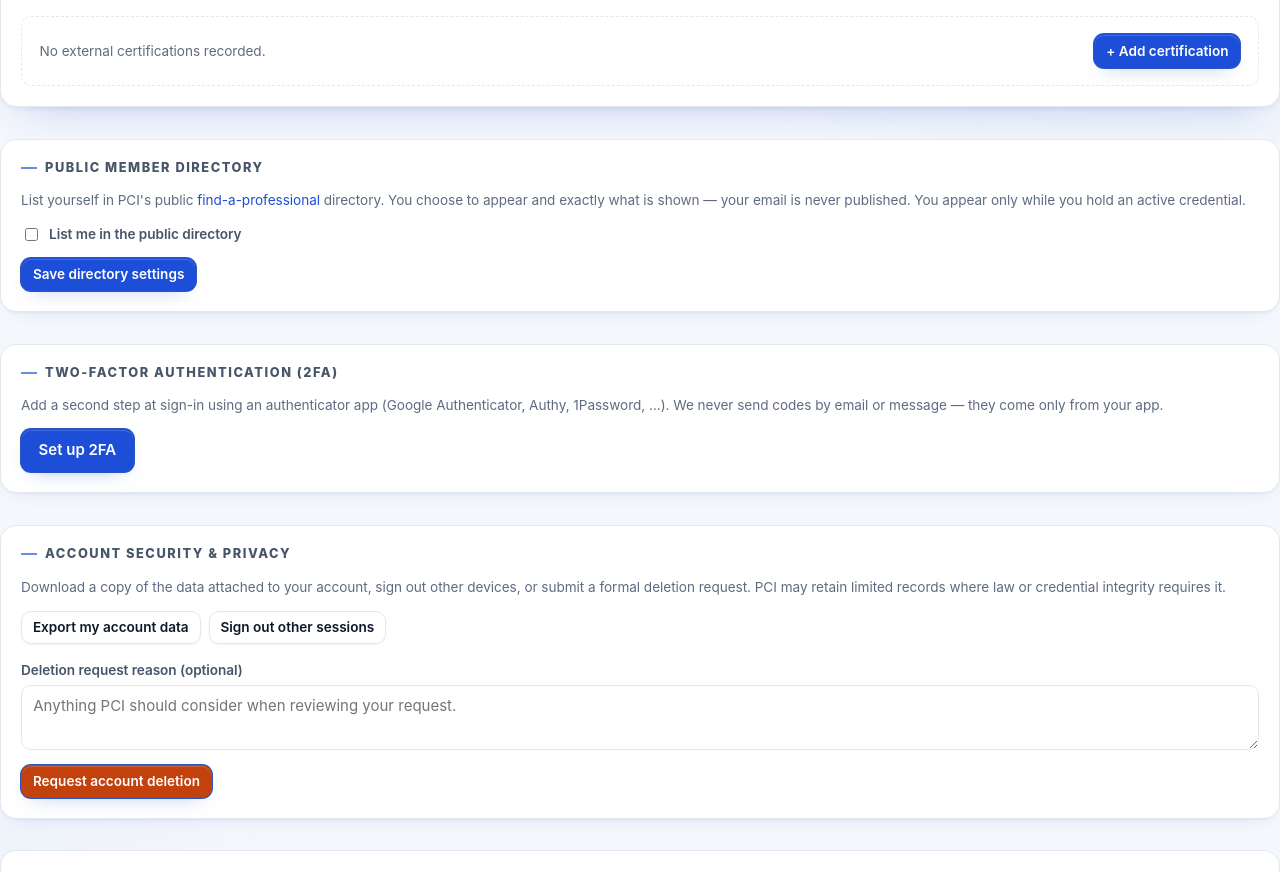
Test: Profile › two-factor enrolment › runs setup → verify and then reveals the one-time recovery codes
(page scrolled)
Click the button "Set up 2FA".
click(77, 451)  # box [21,429,134,472]
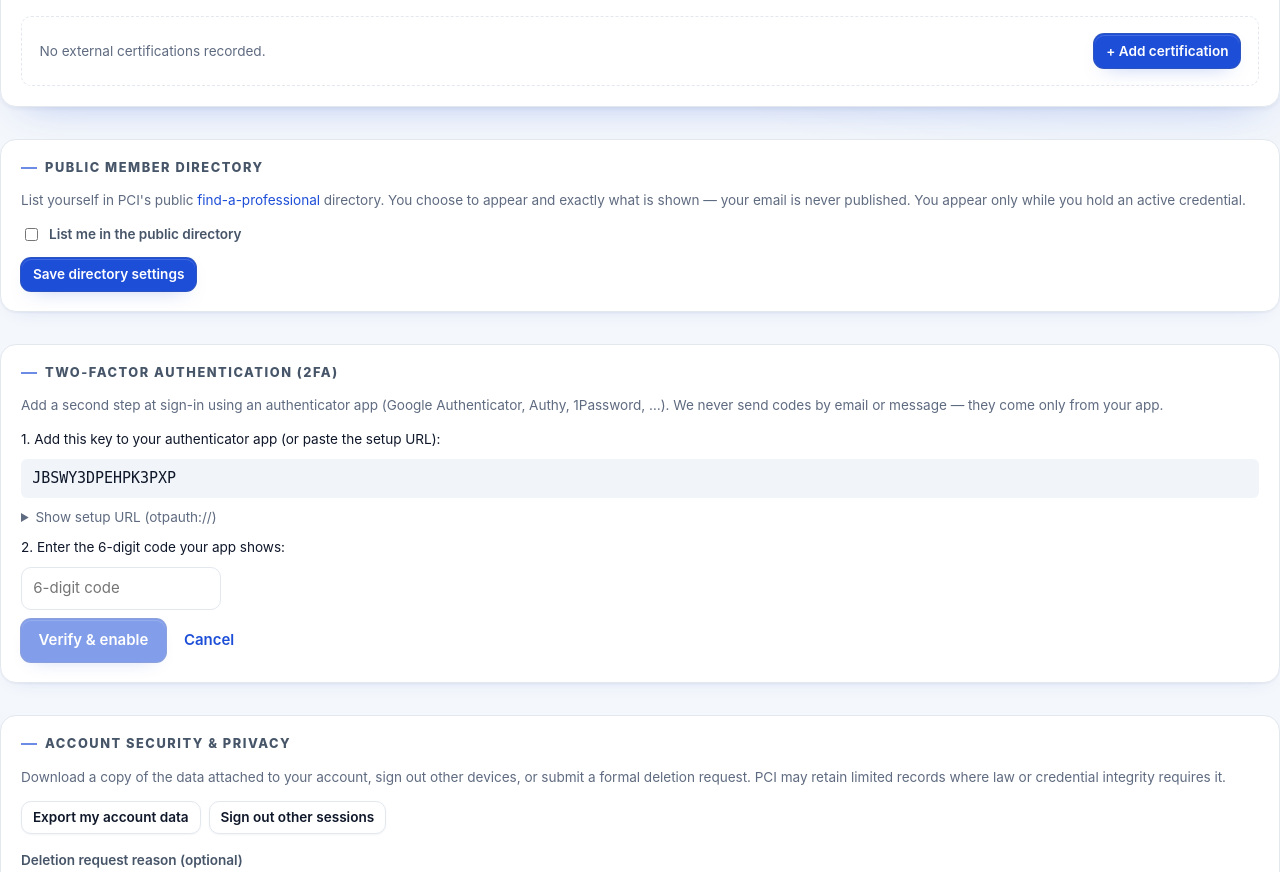
Result: the text "JBSWY3DPEHPK3PXP" is shown at [21,459,1259,498]
Result: the button "Verify & enable" is disabled at [21,619,166,662]
Type "123456" into the field with placeholder "6-digit code".
click(121, 589); type("123456")  # box [21,567,221,610]
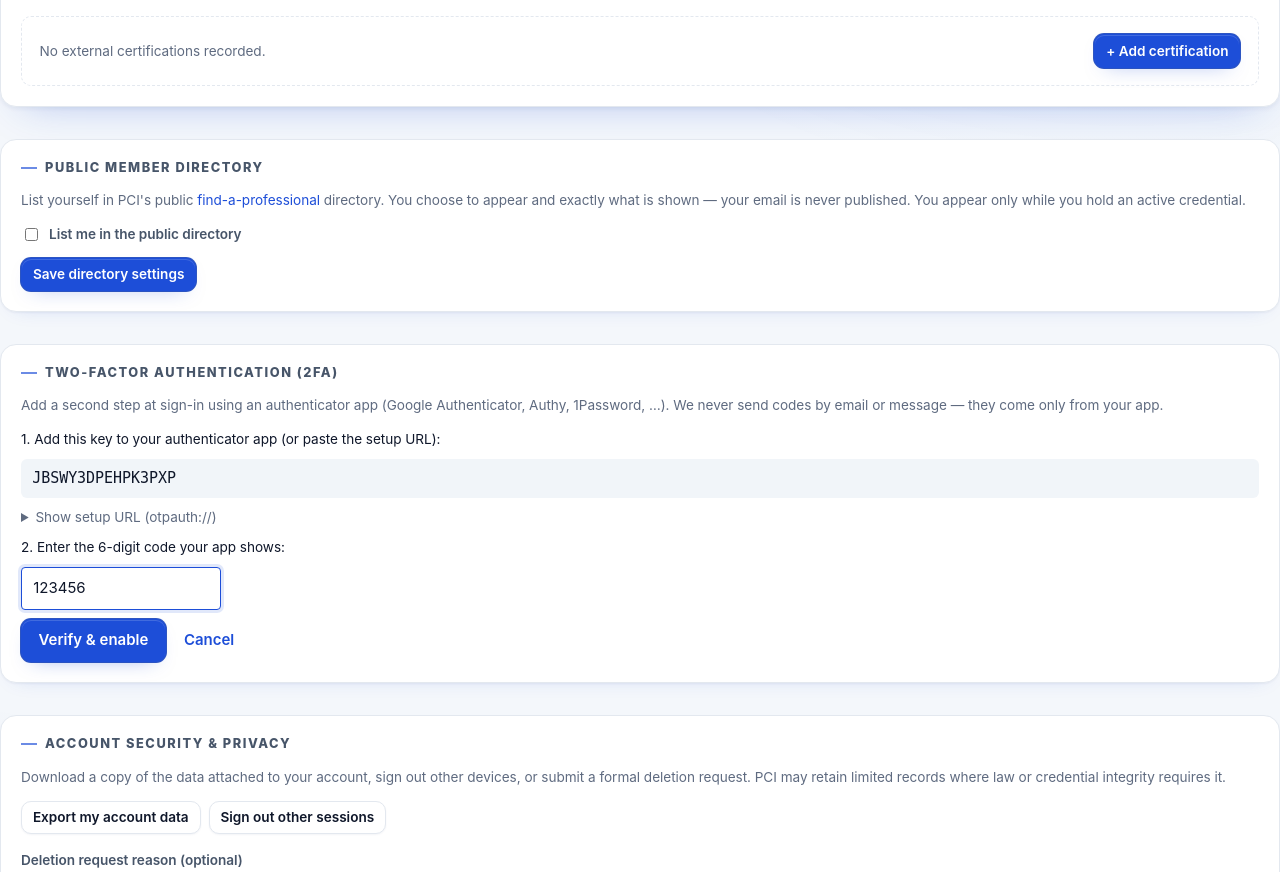
Result: the button "Verify & enable" is enabled
Click the button "Verify & enable".
click(93, 641)  # box [21,619,166,662]
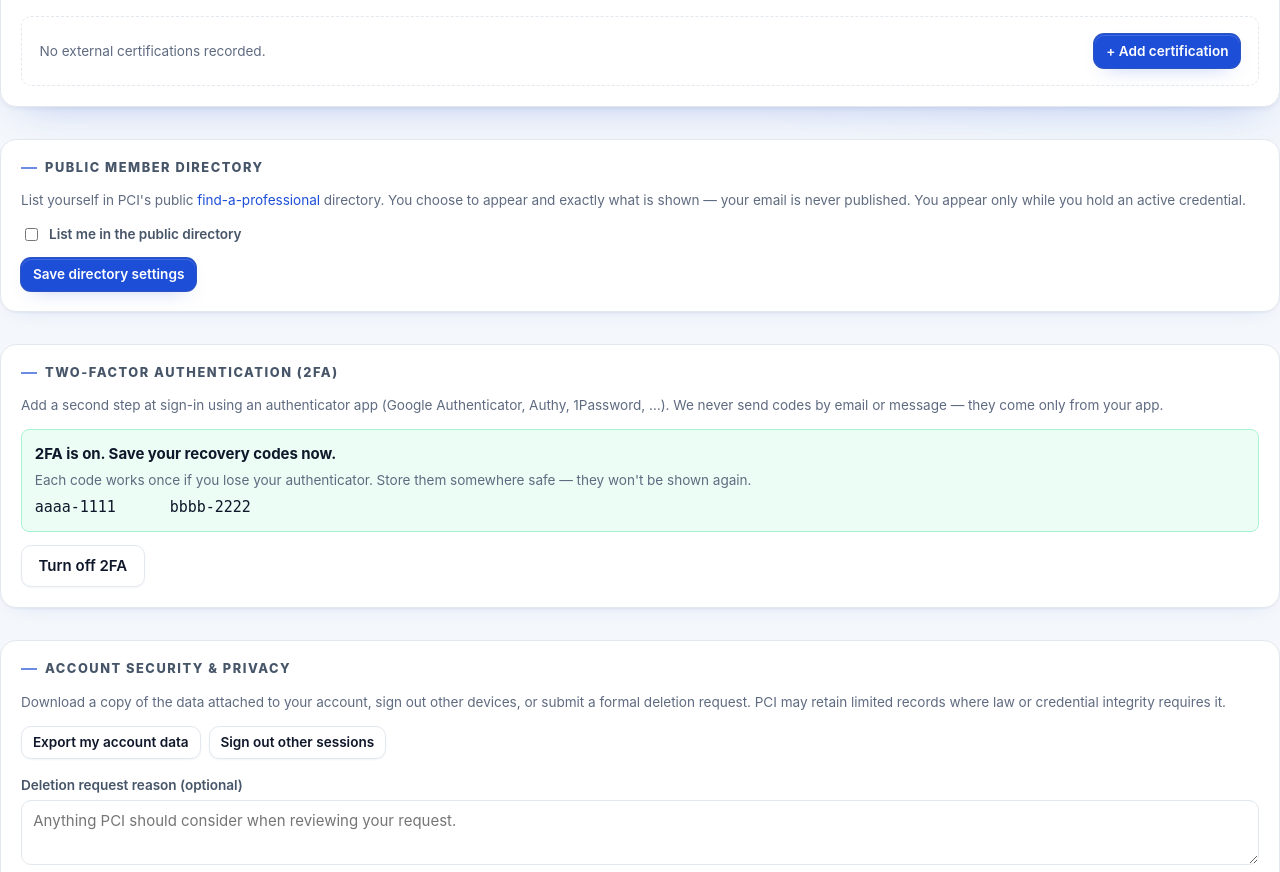
Result: the text "aaaa-1111" is shown at [35,498,116,516]
Result: the text "bbbb-2222" is shown at [170,498,251,516]
Result: the text "2FA is on. Save your recovery codes now." is shown at [35,444,336,463]
